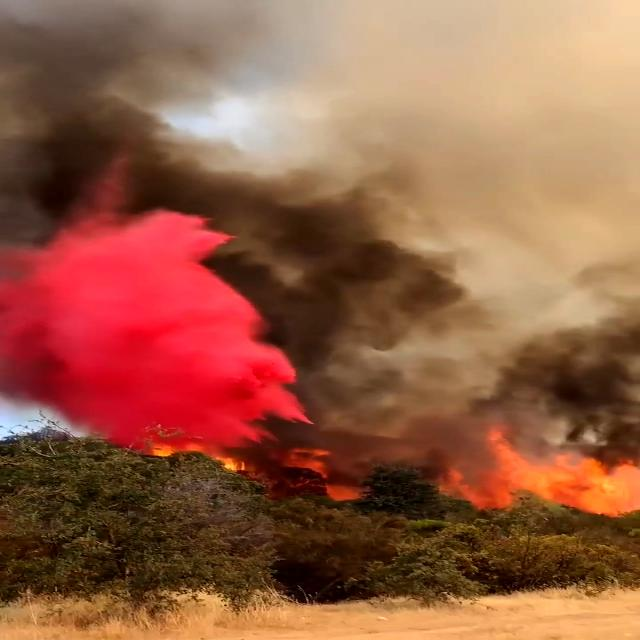Fire: (309, 439, 640, 515)
Smoke: (324, 5, 640, 434), (0, 0, 333, 202), (260, 205, 471, 335)
